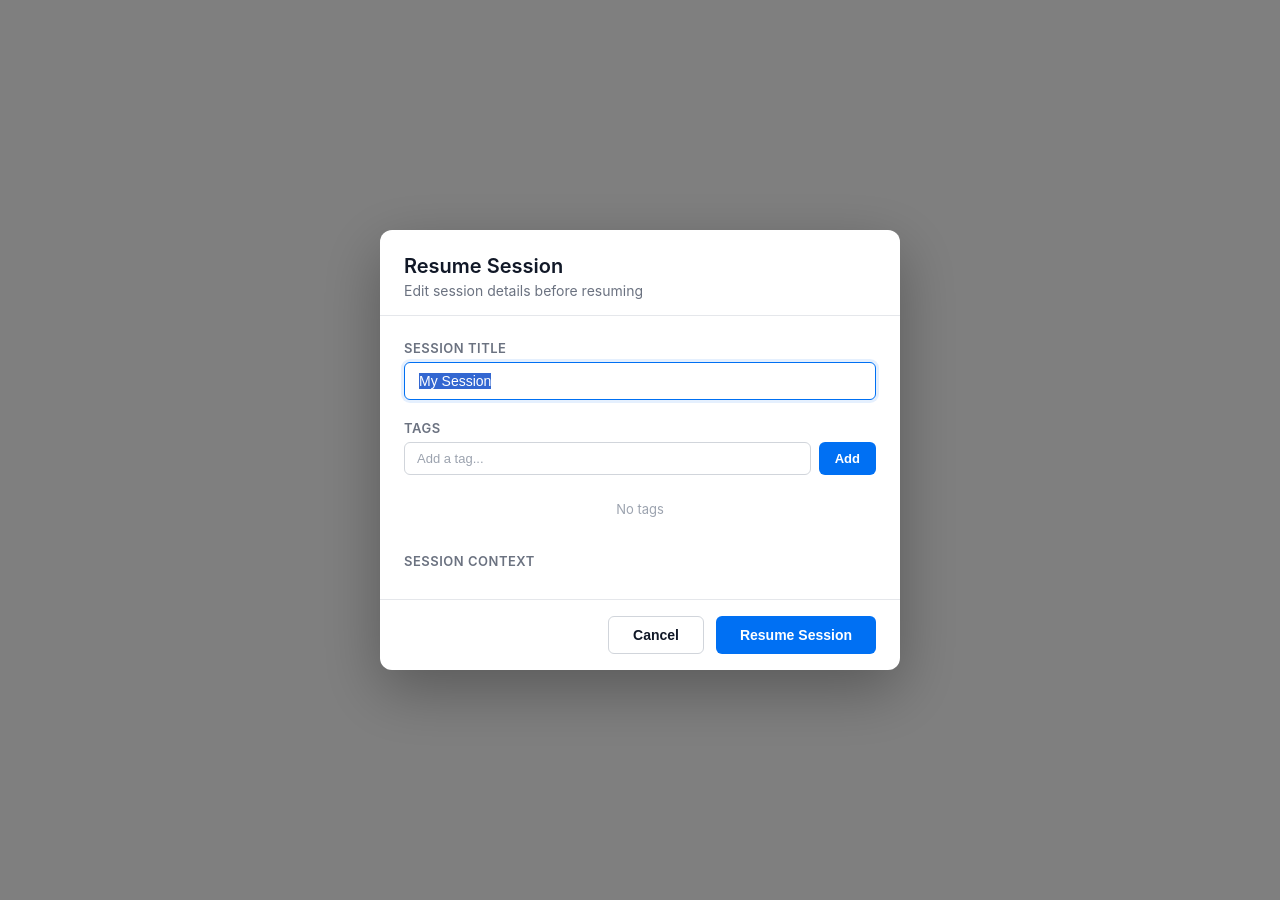
ResumeSessionModal › isSubmitting guard › shows Resuming... and disables the button after first click
Click the button "Resume Session".
click(796, 635)  # box top-left (716, 616), bottom-right (876, 654)
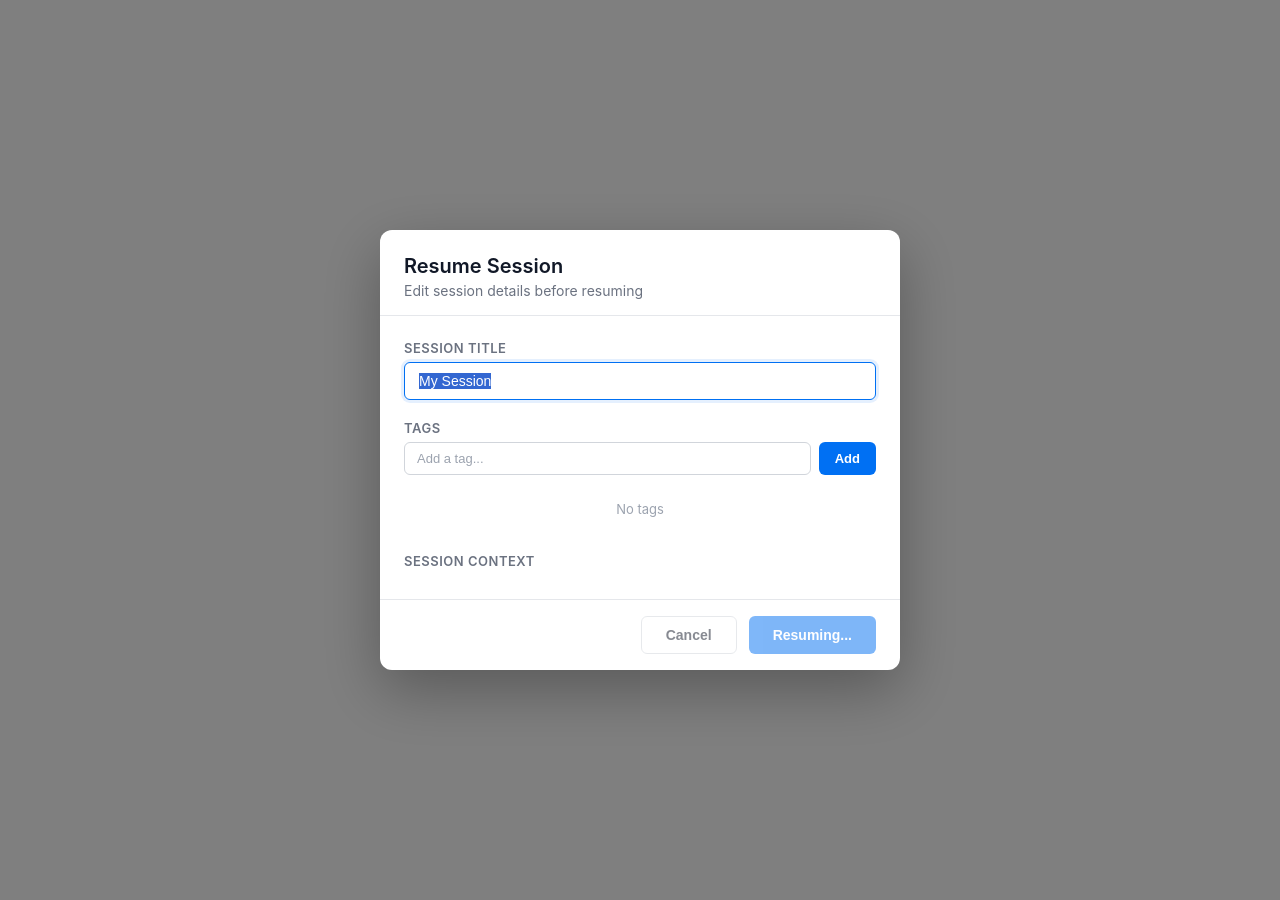
Result: the button "Resuming..." is disabled at top-left (749, 616), bottom-right (876, 654)
